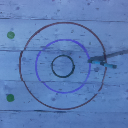Axe Tip: (92, 58, 104, 61)
